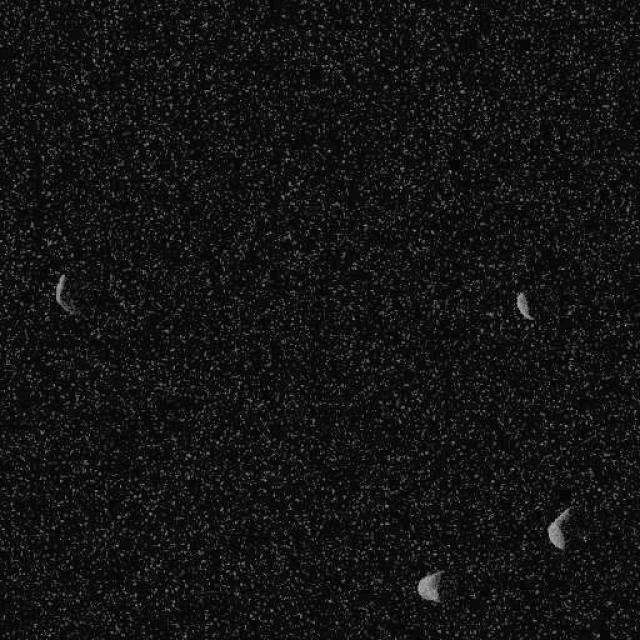D2: (546, 505, 574, 550), (415, 568, 444, 602), (54, 273, 75, 315), (514, 290, 535, 321)
